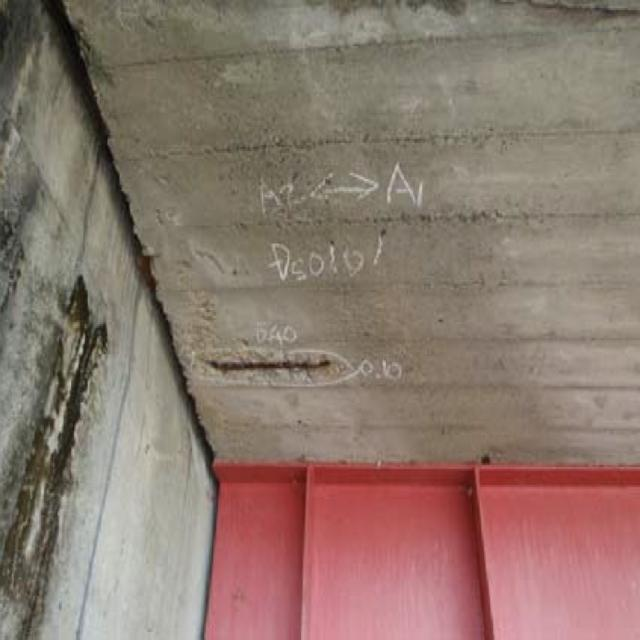leakage: (20, 236, 113, 620)
spalling: (187, 329, 389, 394)
